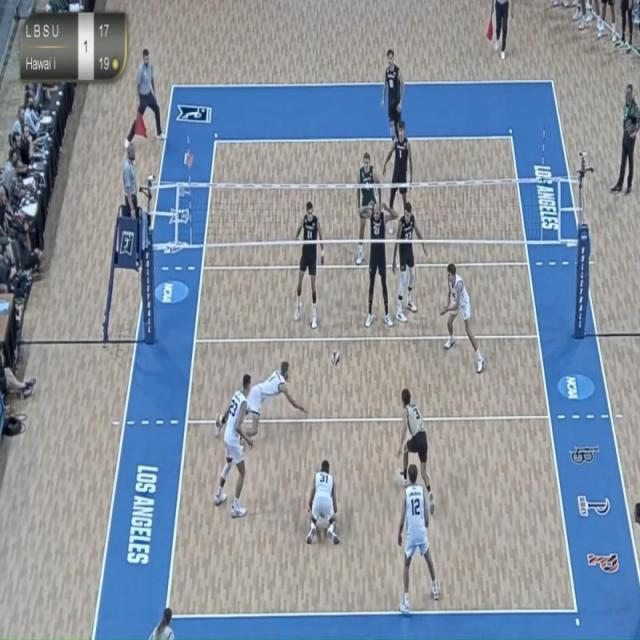volleyball: (328, 346, 342, 370)
